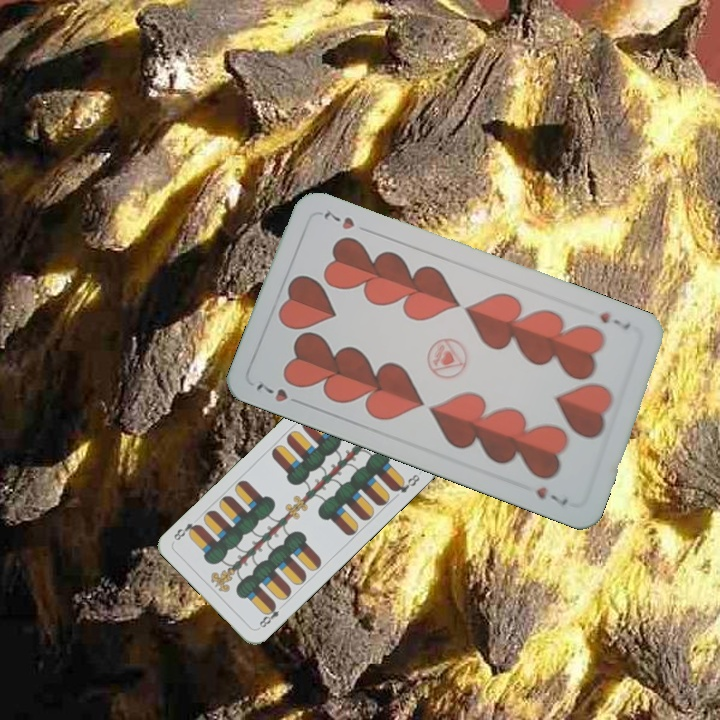E8: (254, 599, 282, 632)
H7: (251, 378, 306, 408), (595, 307, 633, 333)
